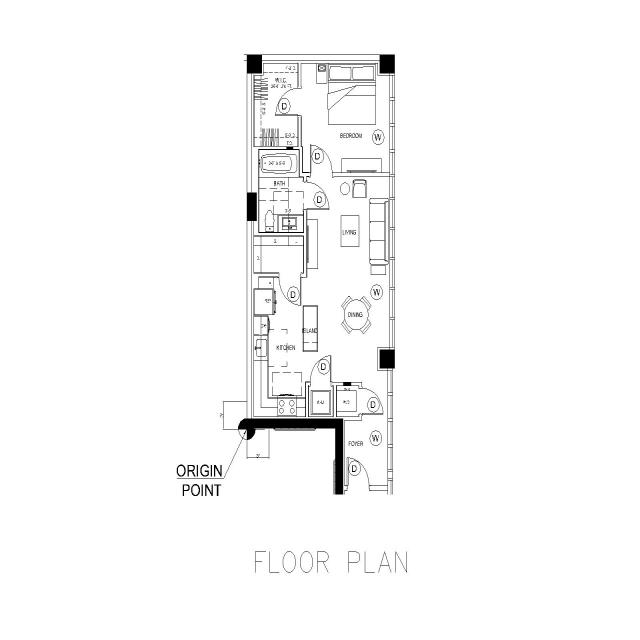Column: (378, 347, 397, 371), (378, 52, 396, 74), (245, 53, 262, 75), (246, 191, 258, 222)
Door: (297, 85, 302, 116), (346, 484, 371, 490), (303, 179, 307, 211), (359, 388, 363, 417), (277, 272, 302, 276), (309, 381, 332, 385), (310, 172, 333, 176)
Window: (389, 174, 395, 350), (386, 366, 394, 495), (389, 71, 395, 173)
